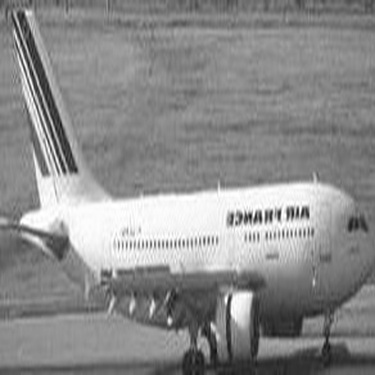airplane: (3, 3, 371, 370)
